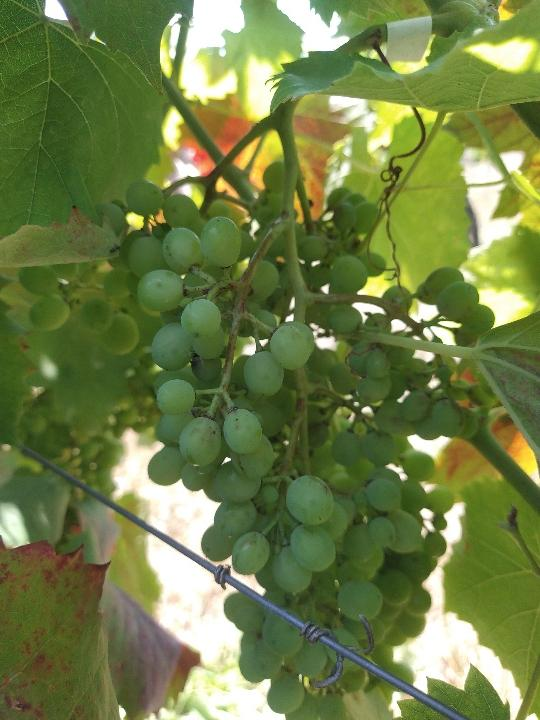grape: (9, 158, 497, 714)
